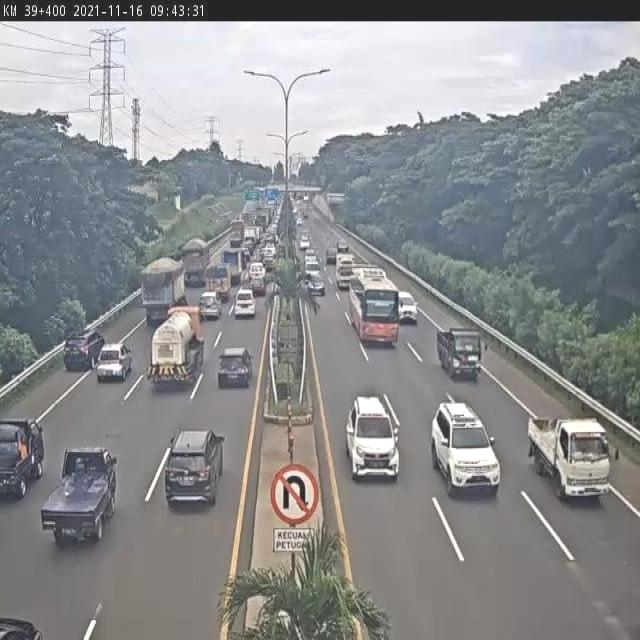Bus: (349, 262, 400, 346)
Car: (431, 401, 501, 499), (166, 427, 225, 506), (346, 396, 401, 480), (62, 329, 106, 373), (215, 347, 254, 386), (96, 343, 133, 383), (397, 291, 420, 323), (199, 289, 221, 319), (233, 290, 255, 318), (304, 259, 321, 281), (250, 276, 268, 296), (310, 276, 326, 298), (324, 246, 338, 264), (299, 234, 311, 250), (335, 238, 348, 250)
Truck: (525, 411, 615, 506), (39, 446, 120, 547), (145, 304, 205, 386), (0, 414, 45, 498), (139, 254, 187, 323), (437, 323, 481, 381), (181, 238, 212, 288), (206, 259, 230, 301), (221, 246, 244, 283), (334, 252, 357, 288), (230, 217, 247, 235), (245, 223, 261, 241)
